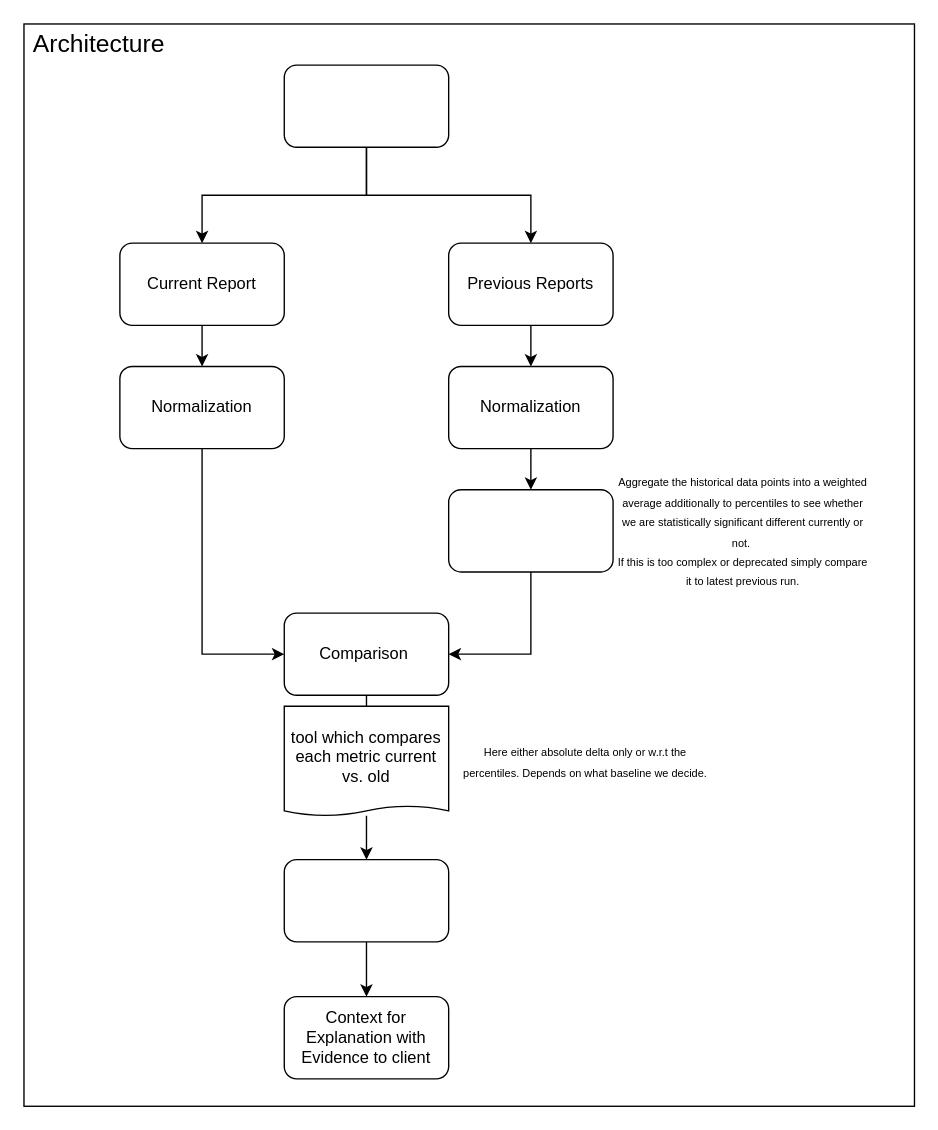
This 938x1130 diagram has some shape labels left out. The shapes that lost their labels are listed below. From the top down, each one's centre as x and y in pixels, then its label:
At (x=366, y=105): "Trigger".
At (x=530, y=530): "Statistical Baseline".
At (x=366, y=900): "Evidence Pack".
